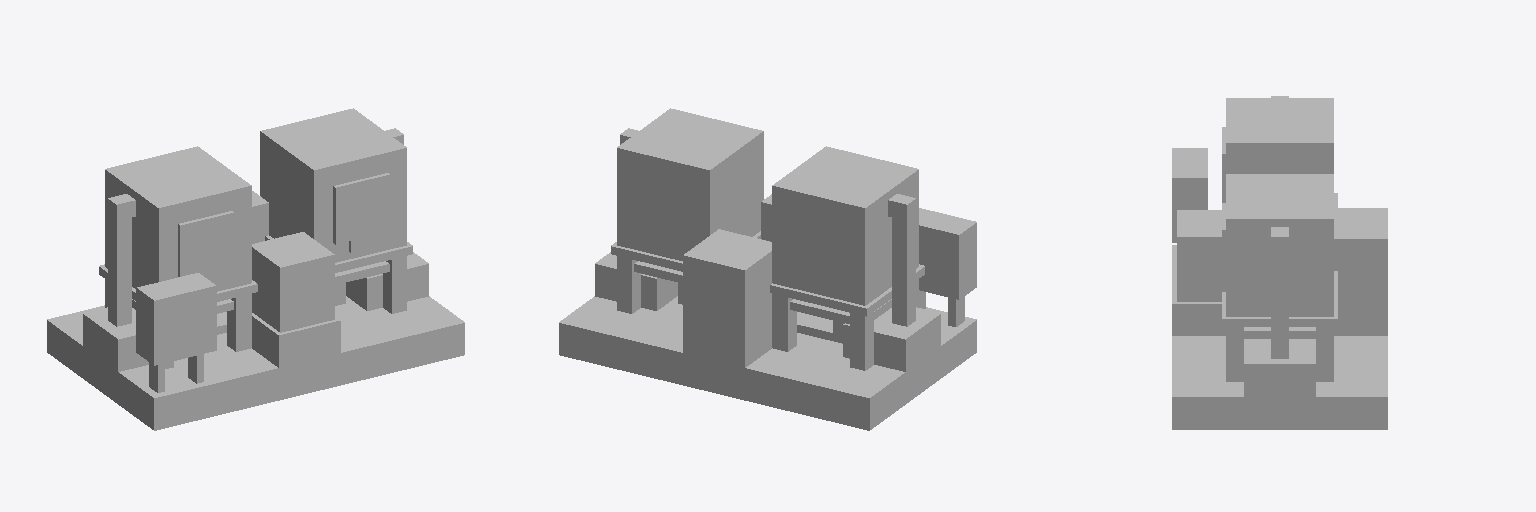
Rendered from refinery_mirrored.obj.
The picture shows the model from 3 angles: view 1: azimuth 30°, elevation 25°; view 2: azimuth 150°, elevation 25°; view 3: azimuth 270°, elevation 25°; orthographic projection.
Parts seen in each view (by area): view 1: refinery; view 2: refinery; view 3: refinery.
Boxes of the visible parts, x1,y1,x2,y2 form: refinery: [47, 108, 464, 430]; refinery: [559, 108, 976, 430]; refinery: [1172, 96, 1387, 429].
Size of the model in its own units: 5 by 3 by 3.